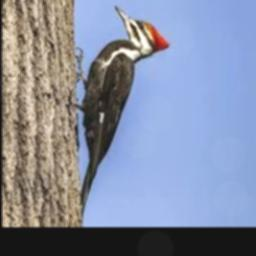Woodpecker: (74, 5, 170, 220)
